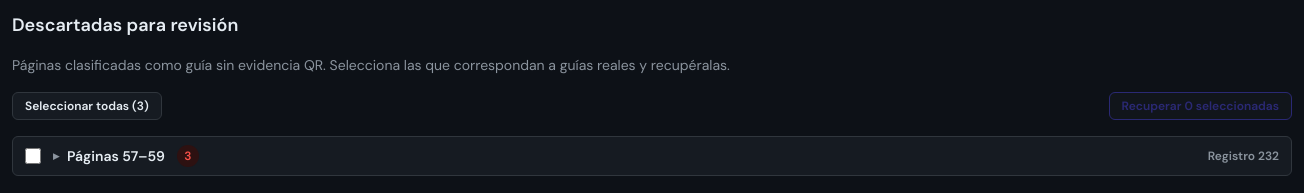
DescartadasTab — A3 selection (per-page, tri-state group, global) › group header checkbox selects all pages of the run without expanding
The image size is (1304, 193).
Note: Group stays collapsed — the header checkbox must still work.
Click the checkbox with class "descartadas-tab__group-checkbox" at (33, 156), box 25,148 -> 41,164
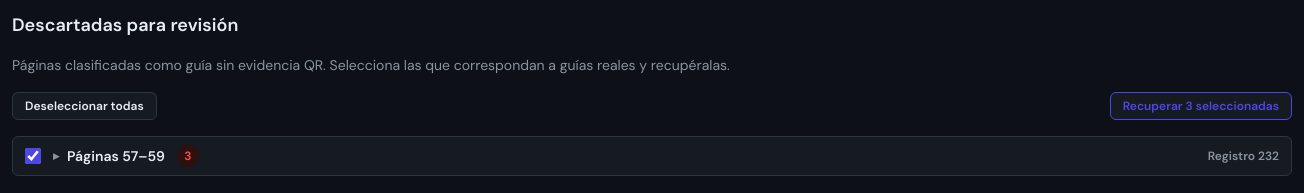
Check: the checkbox with class "descartadas-tab__group-checkbox" is checked, box 25,148 -> 41,164
Check: the button with class "descartadas-tab__bulk-btn" shows "3", box 1110,92 -> 1292,120
